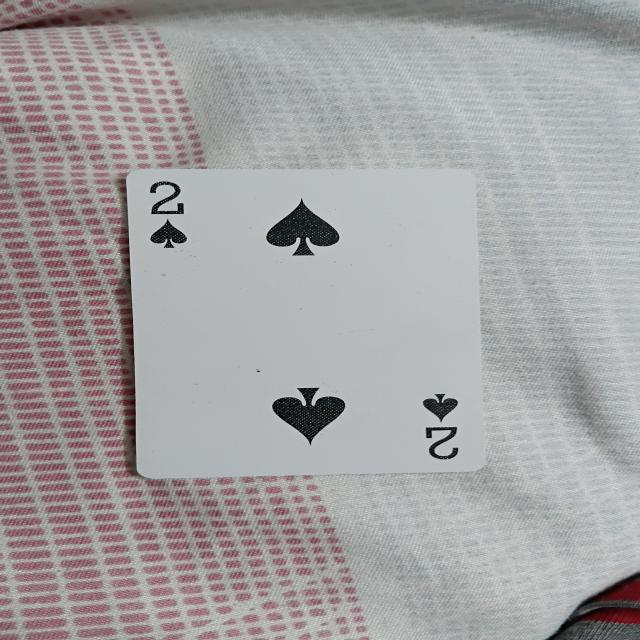2S: (131, 173, 491, 472)
